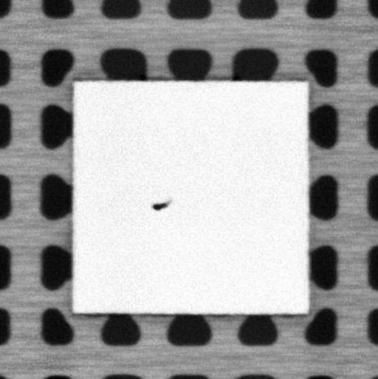DIE_INK: (152, 199, 168, 211)
